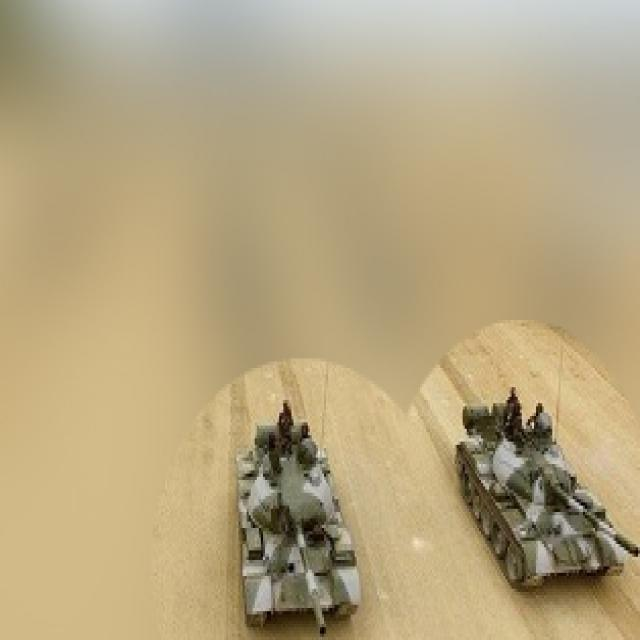tank: (452, 389, 640, 597), (234, 400, 363, 637)
